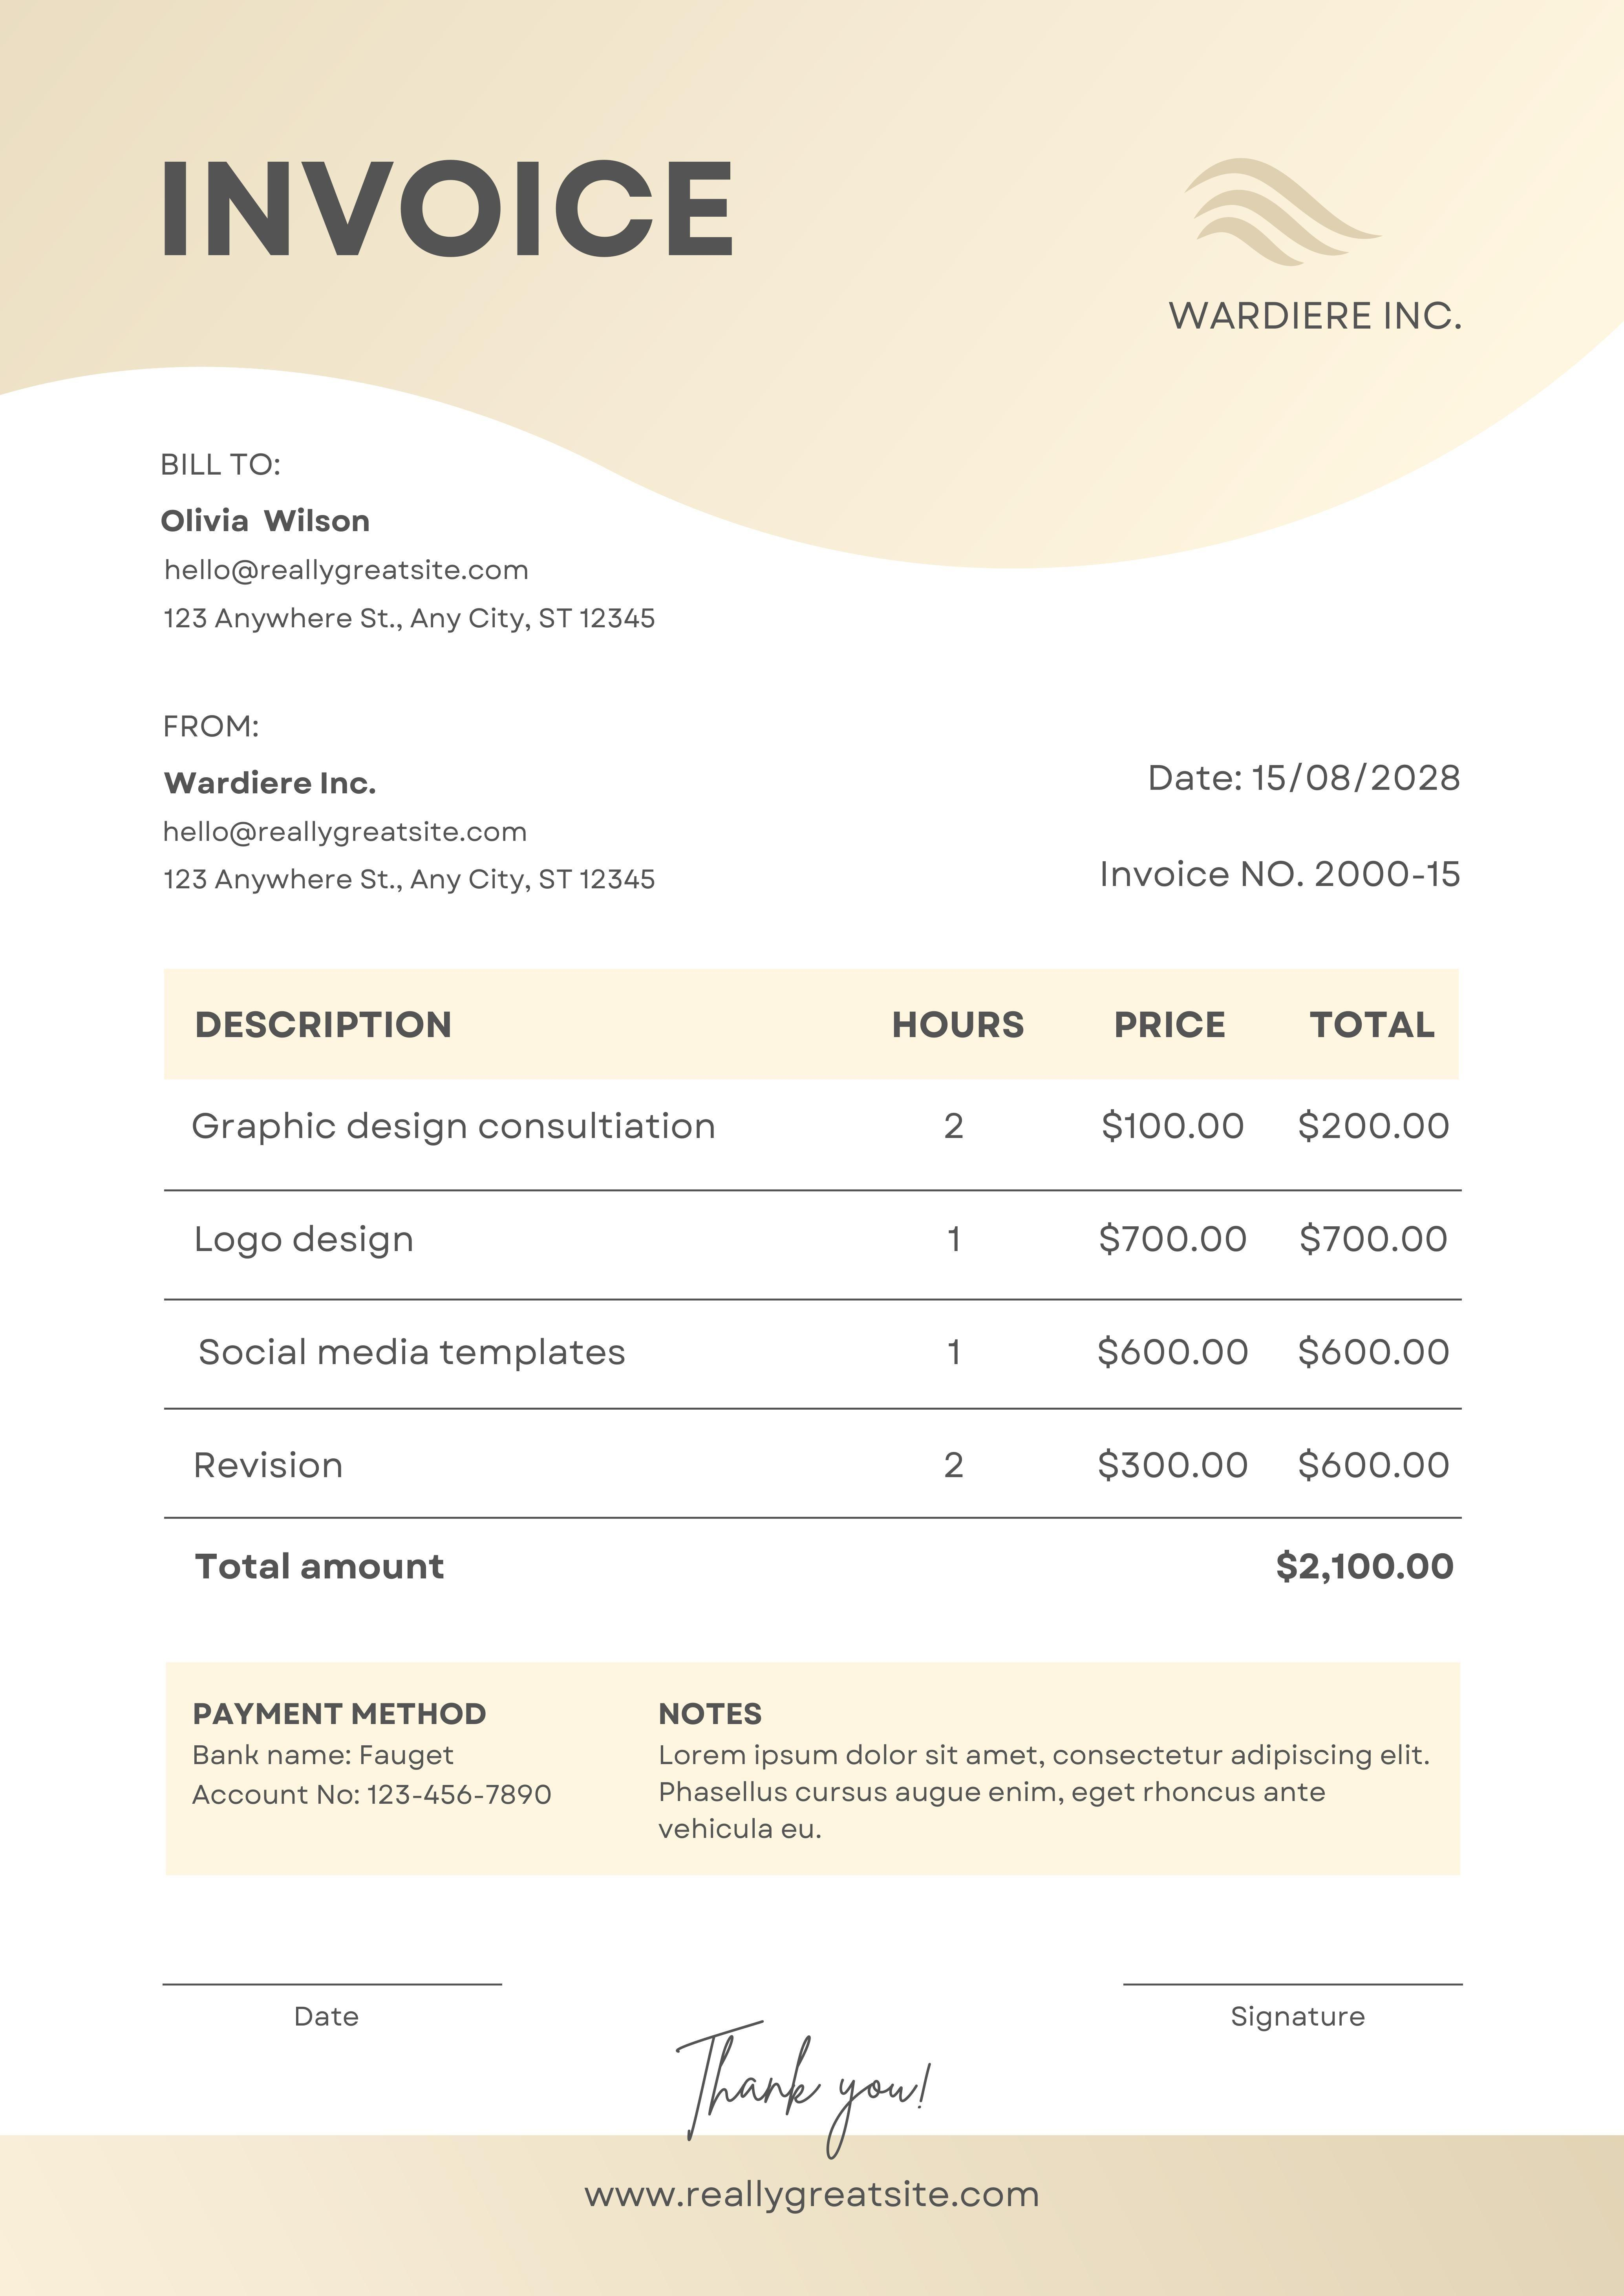ROI: (155, 957, 1464, 1528), (167, 1686, 1446, 1850), (153, 441, 700, 659), (151, 703, 663, 910), (162, 1542, 1469, 1609), (1063, 748, 1527, 921)
